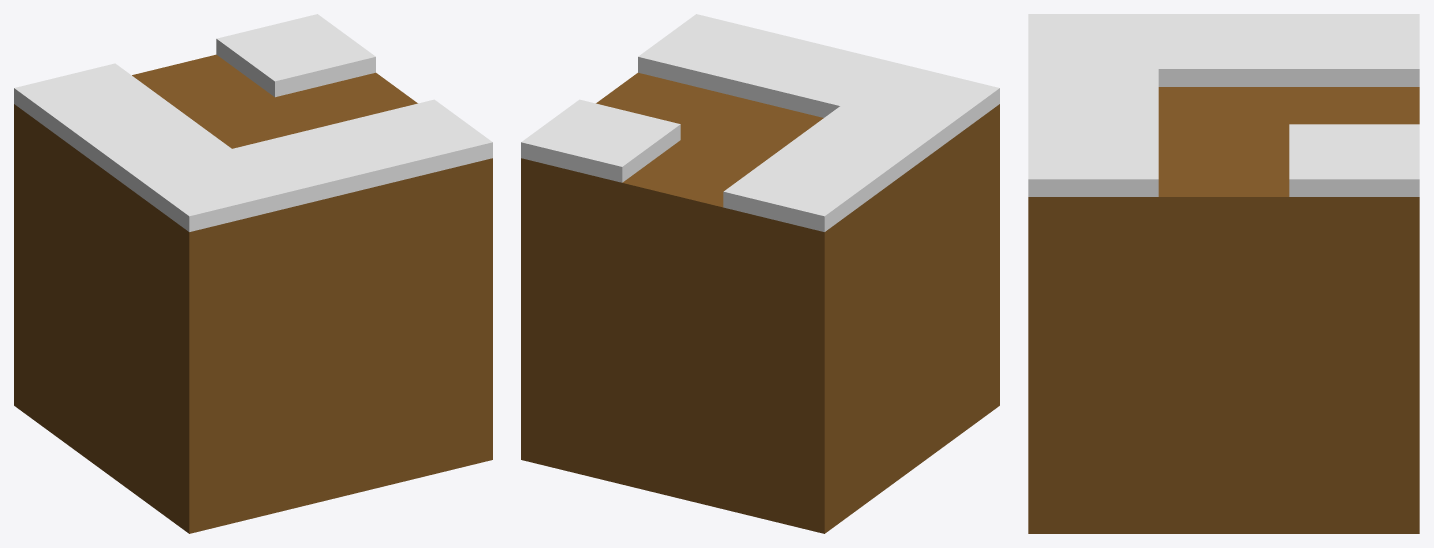
Rendered from WinterCurveCube.fbx.
3 views of the same model, side by side, from view 1: azimuth 30°, elevation 25°; view 2: azimuth 150°, elevation 25°; view 3: azimuth 270°, elevation 25° (orthographic). The views are drawn at different scales.
Parts seen in each view (by area): view 1: WinterCurveCube; view 2: WinterCurveCube; view 3: WinterCurveCube.
Part boxes in pixels (<box>): WinterCurveCube: <box>14,14,492,533</box>; WinterCurveCube: <box>521,14,999,533</box>; WinterCurveCube: <box>1028,14,1419,533</box>.
Bounding box in the file's own units: 1 × 1 × 1.
